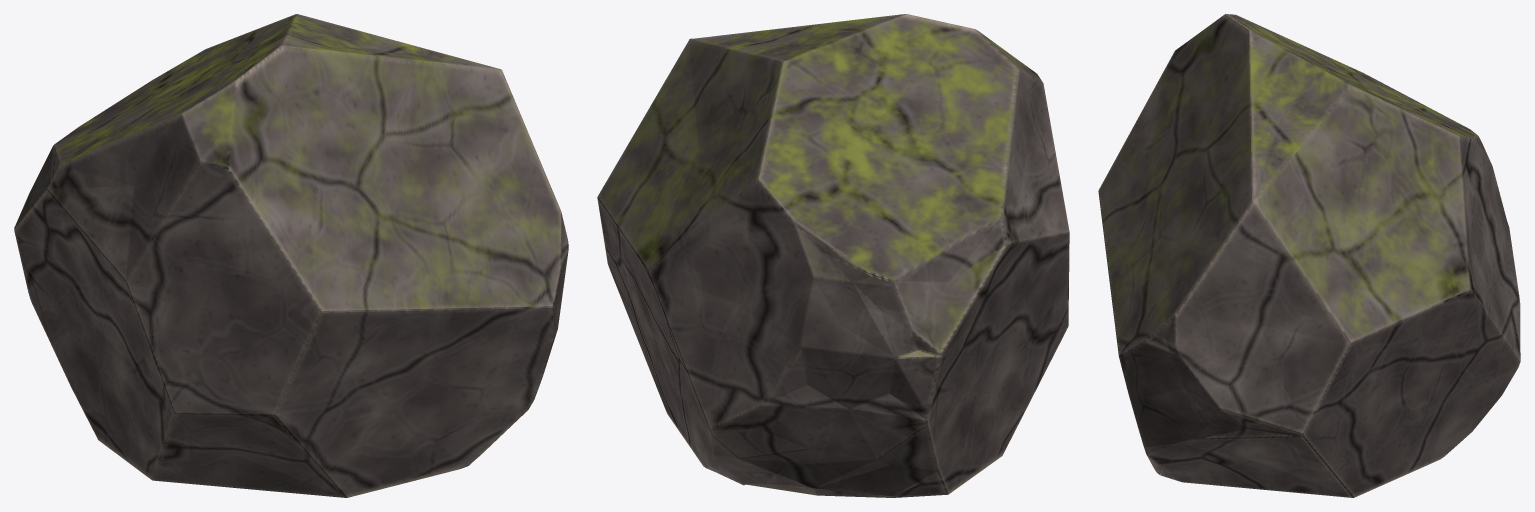
Rendered from Stone_Medium_B.fbx.
3 views of the same model, side by side, from view 1: azimuth 30°, elevation 25°; view 2: azimuth 150°, elevation 25°; view 3: azimuth 270°, elevation 25° (orthographic). The views are drawn at different scales.
Visible parts, largest first — view 1: Stone_Medium_B; view 2: Stone_Medium_B; view 3: Stone_Medium_B.
Boxes of the visible parts, box(x1,y1,x2,y2) form: Stone_Medium_B: box(14, 14, 568, 497); Stone_Medium_B: box(597, 14, 1069, 497); Stone_Medium_B: box(1098, 14, 1520, 497).
Size of the model in its own units: 0.5712 by 0.5086 by 0.5075.
